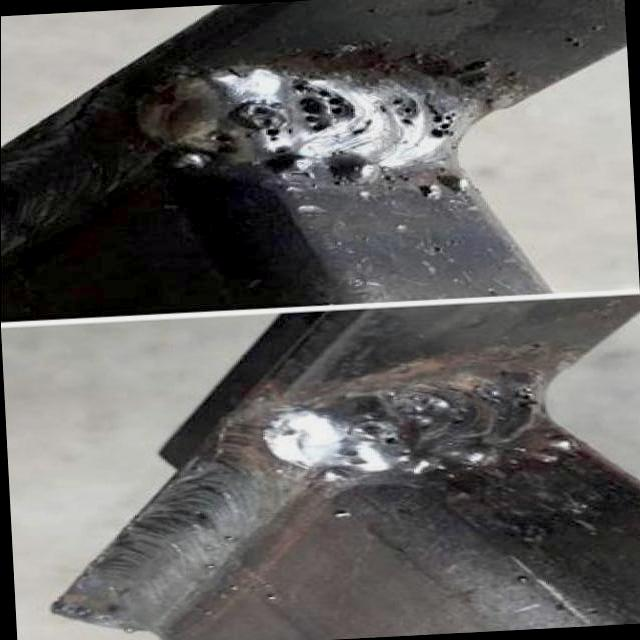defect: (282, 77, 363, 134), (385, 94, 460, 143), (230, 98, 295, 144), (346, 416, 405, 447), (333, 446, 373, 467)
